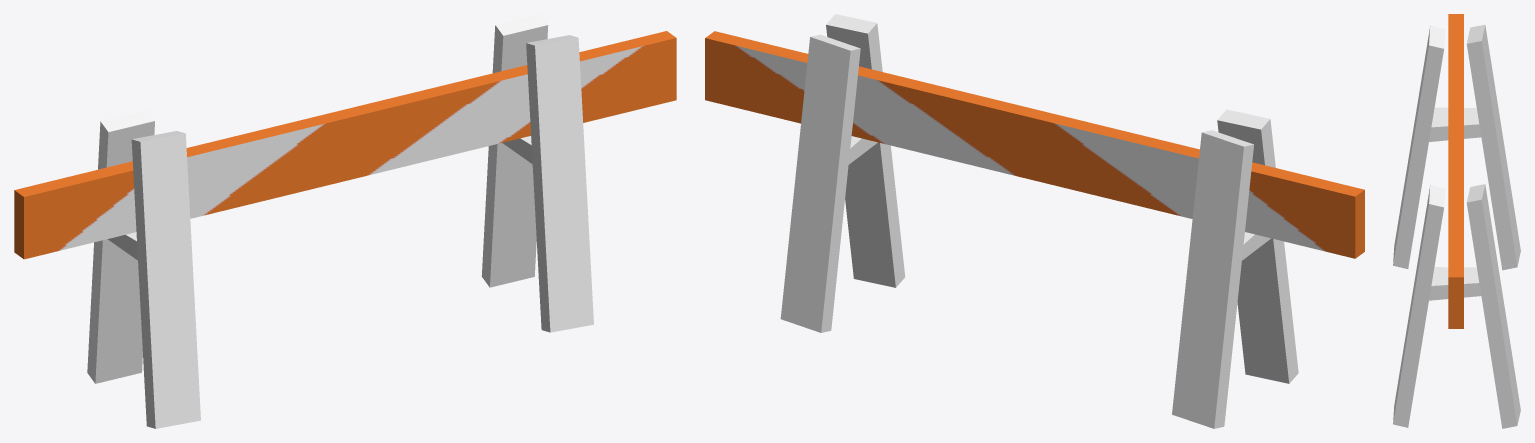
Rendered from crossing.fbx.
The picture shows the model from 3 angles, left to right: view 1: azimuth 30°, elevation 25°; view 2: azimuth 150°, elevation 25°; view 3: azimuth 270°, elevation 25°; orthographic projection. The views are drawn at different scales.
Parts seen in each view (by area): view 1: Cube; view 2: Cube; view 3: Cube.
Part boxes in pixels (left/top/right/bottom): Cube: left=14, top=14, right=676, bottom=428; Cube: left=705, top=14, right=1364, bottom=428; Cube: left=1393, top=14, right=1520, bottom=428.
Bounding box in the file's own units: 334 × 135 × 68.48.
Materials: 1 (1 with a texture image).
